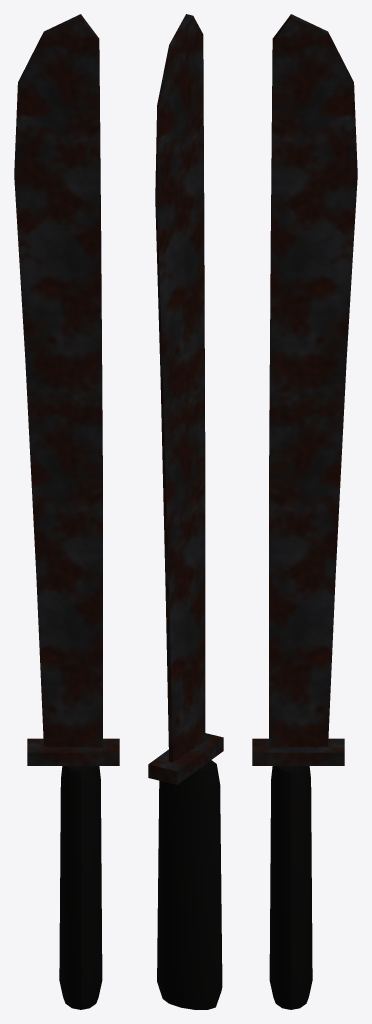
File: machete.glb
The picture shows the model from 3 angles, left to right: view 1: azimuth 90°, elevation 25°; view 2: azimuth 150°, elevation 25°; view 3: azimuth 270°, elevation 25°; orthographic projection.
Parts seen in each view (by area): view 1: machete; view 2: machete; view 3: machete.
Boxes of the visible parts, x1,y1,x2,y2 form: machete: (14, 14, 119, 1009); machete: (148, 14, 223, 1009); machete: (252, 14, 357, 1009).
Size of the model in its own units: 0.0391 by 0.585 by 0.057.
Materials: 2 (2 with a texture image).
